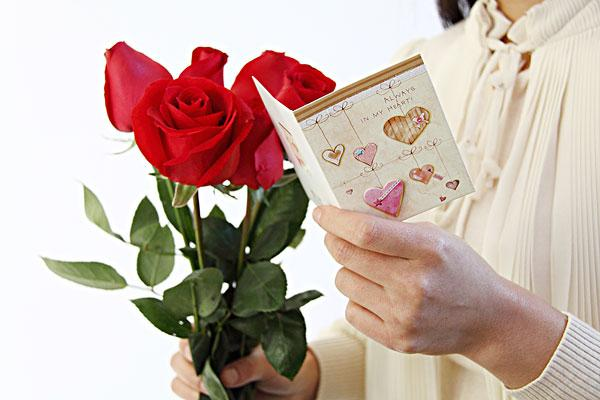no-phone: (236, 52, 498, 361)
